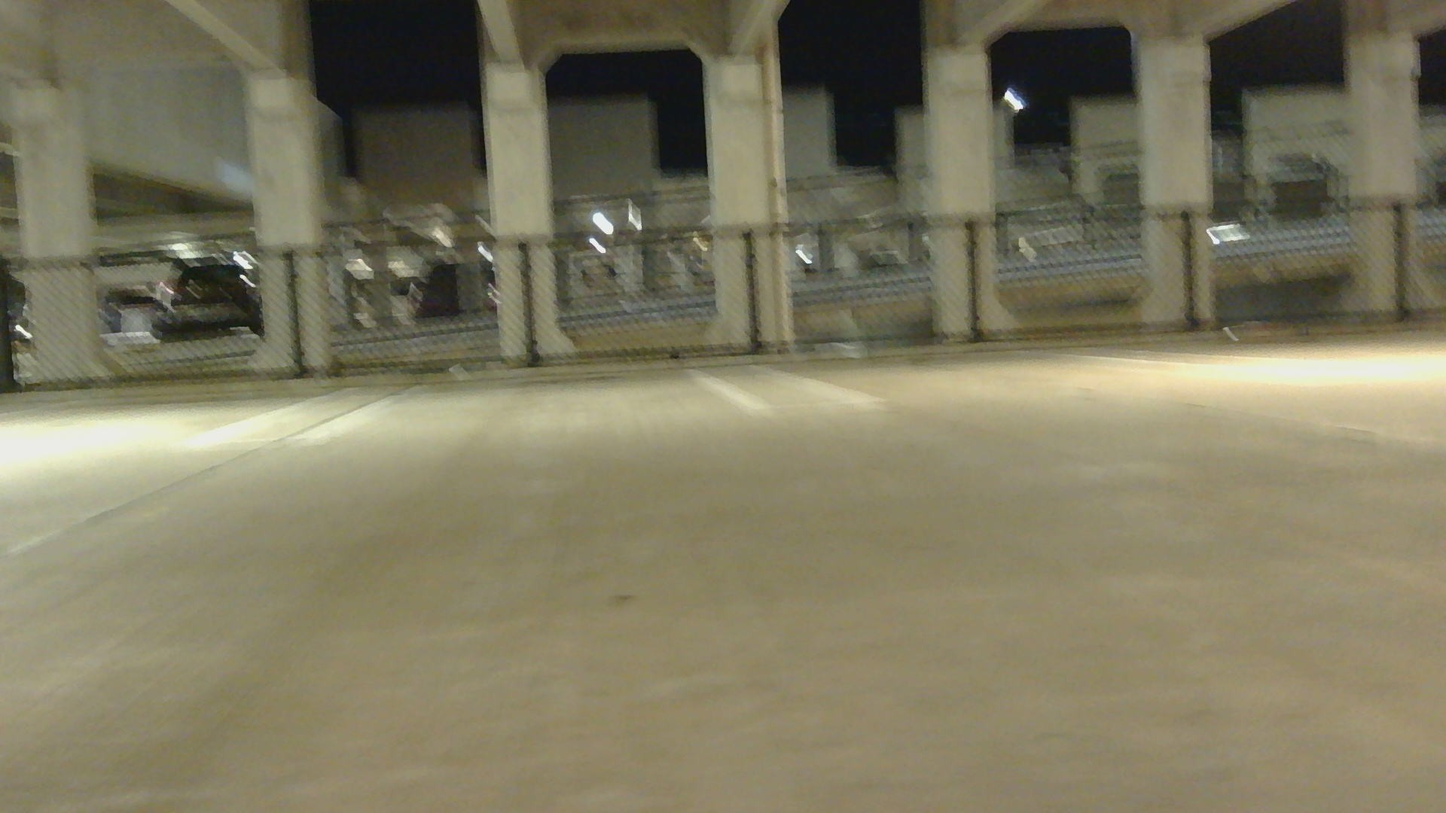empty_spot: (726, 265, 1299, 410), (272, 288, 801, 444), (0, 310, 401, 443), (1100, 259, 1445, 370)
